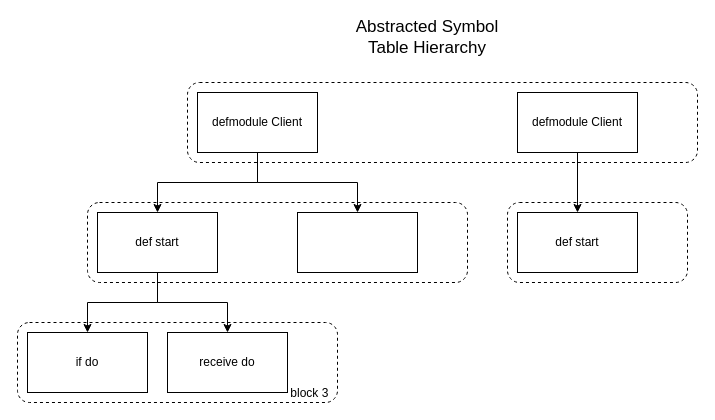
Some shapes in this 715 by 420 pixel diagram are drawn without their labels. Here are the shapes that lost their labels. From the top down, the box of each, then its label:
(186, 82, 698, 162): block 1
(86, 202, 468, 282): block 2
(296, 212, 418, 272): def communicate
(506, 202, 688, 282): block 4
